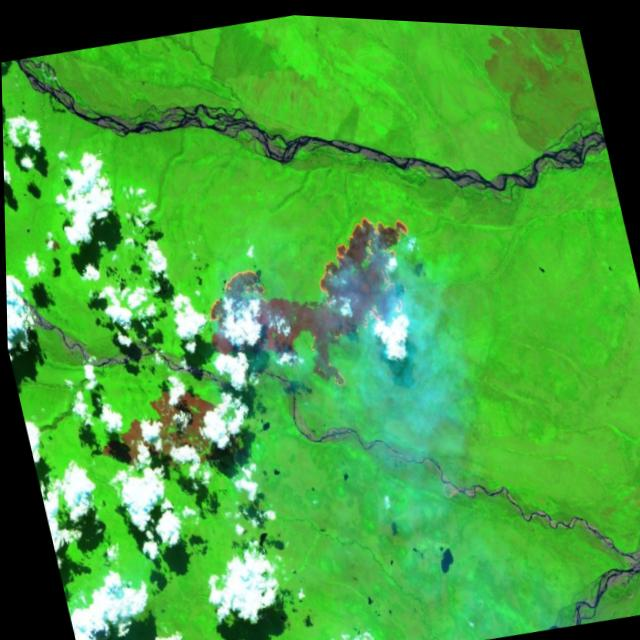fire: (174, 186, 447, 426)
